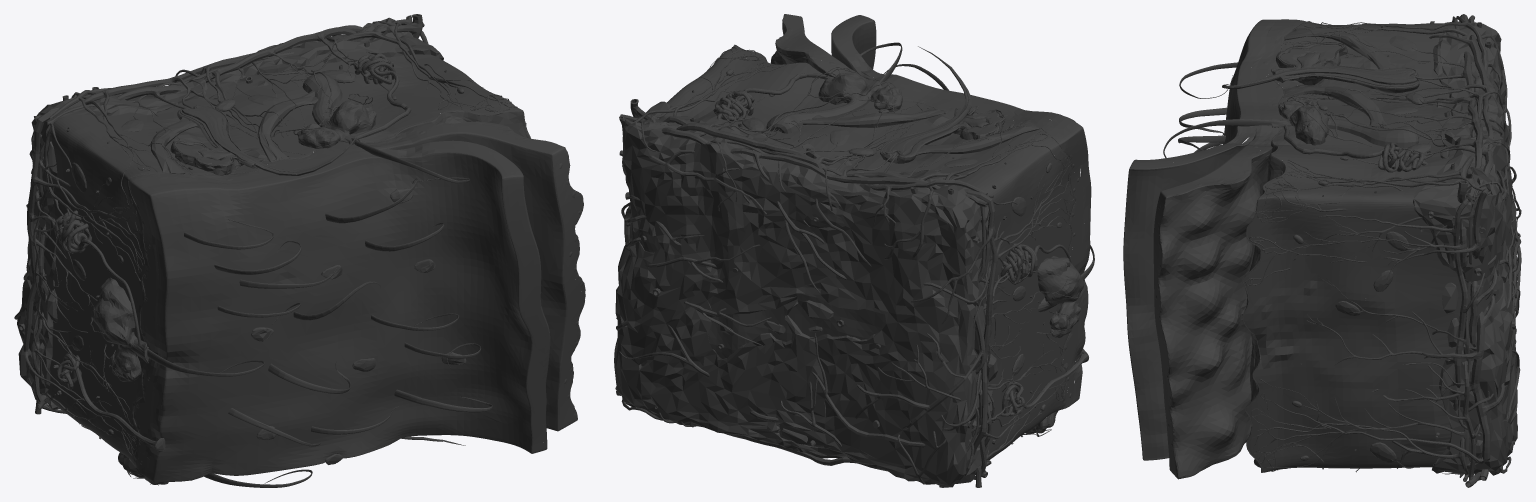
Rendered from sharedassets89.glb.
3 renders of one model, left to right at view 1: azimuth 30°, elevation 25°; view 2: azimuth 150°, elevation 25°; view 3: azimuth 270°, elevation 25°, orthographic. The views are drawn at different scales.
Parts seen in each view (by area): view 1: 0011_Stratum corneum__300671, 0003_Dermis _reticular___300826, 0026_Stratum spinosum__300687, 0001_Subcutaneous adipose tissue _fat___30067, 0023_Hair shaft__300663, 0029_Arteries__300657, 0006_Hair follicle__300668, 0008_Veins__300656, 0004_Dermis _papillary___300780, 0017_Stratum granulosum__300655, 0012_Lymph__303562, 0030_Sensory nerves__300660 (+12 smaller); view 2: 0001_Subcutaneous adipose tissue _fat___30067, 0003_Dermis _reticular___300826, 0008_Veins__300656, 0029_Arteries__300657, 0006_Hair follicle__300668, 0019_Subcutaneous areolar connective tissue__, 0012_Lymph__303562, 0030_Sensory nerves__300660, 0011_Stratum corneum__300671, 0026_Stratum spinosum__300687, 0004_Dermis _papillary___300780, 0009_Arrector pili__300659 (+8 smaller); view 3: 0003_Dermis _reticular___300826, 0025_Stratum basale__300690, 0001_Subcutaneous adipose tissue _fat___30067, 0017_Stratum granulosum__300655, 0029_Arteries__300657, 0008_Veins__300656, 0004_Dermis _papillary___300780, 0012_Lymph__303562, 0030_Sensory nerves__300660, 0026_Stratum spinosum__300687, 0019_Subcutaneous areolar connective tissue__, 0006_Hair follicle__300668 (+13 smaller).
Part boxes in pixels (box(x1,y1,x2,y2)): 0011_Stratum corneum__300671: box(144, 143, 545, 482); 0003_Dermis _reticular___300826: box(51, 52, 508, 457); 0026_Stratum spinosum__300687: box(130, 124, 582, 475); 0001_Subcutaneous adipose tissue _fat___30067: box(17, 17, 443, 410); 0023_Hair shaft__300663: box(147, 140, 492, 487); 0029_Arteries__300657: box(23, 14, 511, 485); 0006_Hair follicle__300668: box(91, 73, 376, 484); 0008_Veins__300656: box(18, 15, 526, 476); 0004_Dermis _papillary___300780: box(124, 100, 520, 465); 0017_Stratum granulosum__300655: box(141, 140, 550, 477); 0012_Lymph__303562: box(14, 23, 517, 426); 0030_Sensory nerves__300660: box(24, 21, 457, 434); 0001_Subcutaneous adipose tissue _fat___30067: box(615, 101, 997, 487); 0003_Dermis _reticular___300826: box(666, 51, 1067, 459); 0008_Veins__300656: box(615, 51, 1077, 487); 0029_Arteries__300657: box(614, 48, 1078, 487); 0006_Hair follicle__300668: box(766, 73, 1084, 434); 0019_Subcutaneous areolar connective tissue__: box(639, 142, 991, 446); 0012_Lymph__303562: box(620, 46, 1071, 475); 0030_Sensory nerves__300660: box(616, 69, 1061, 484); 0011_Stratum corneum__300671: box(837, 16, 1091, 402); 0026_Stratum spinosum__300687: box(780, 15, 1082, 407); 0004_Dermis _papillary___300780: box(726, 45, 1075, 412); 0009_Arrector pili__300659: box(802, 107, 1039, 155); 0003_Dermis _reticular___300826: box(1261, 23, 1456, 469); 0025_Stratum basale__300690: box(1156, 20, 1305, 479); 0001_Subcutaneous adipose tissue _fat___30067: box(1413, 21, 1517, 475); 0017_Stratum granulosum__300655: box(1123, 19, 1277, 460); 0029_Arteries__300657: box(1245, 14, 1520, 480); 0008_Veins__300656: box(1245, 15, 1521, 487); 0004_Dermis _papillary___300780: box(1243, 22, 1318, 472); 0012_Lymph__303562: box(1250, 16, 1520, 481); 0030_Sensory nerves__300660: box(1275, 16, 1521, 477); 0026_Stratum spinosum__300687: box(1153, 19, 1299, 477); 0019_Subcutaneous areolar connective tissue__: box(1428, 61, 1514, 463); 0006_Hair follicle__300668: box(1271, 98, 1418, 148).
Size of the model in its own units: 2.05 by 1.61 by 1.77.
Materials: 1 (1 with a texture image).
